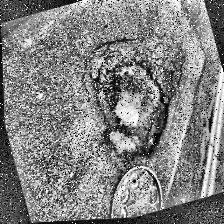pothole: (88, 56, 182, 166)
